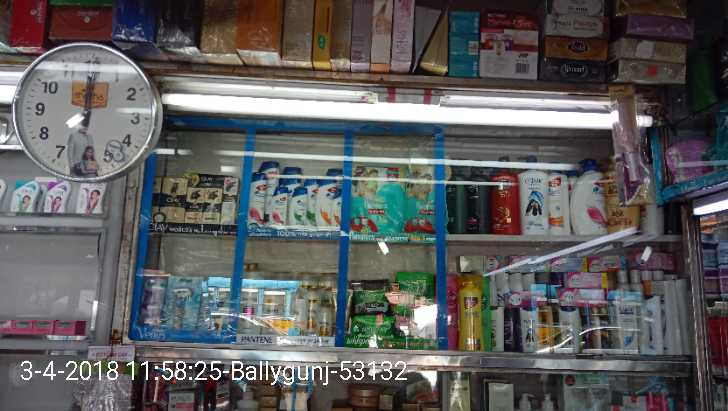venus: (168, 276, 195, 329), (140, 271, 166, 324)
